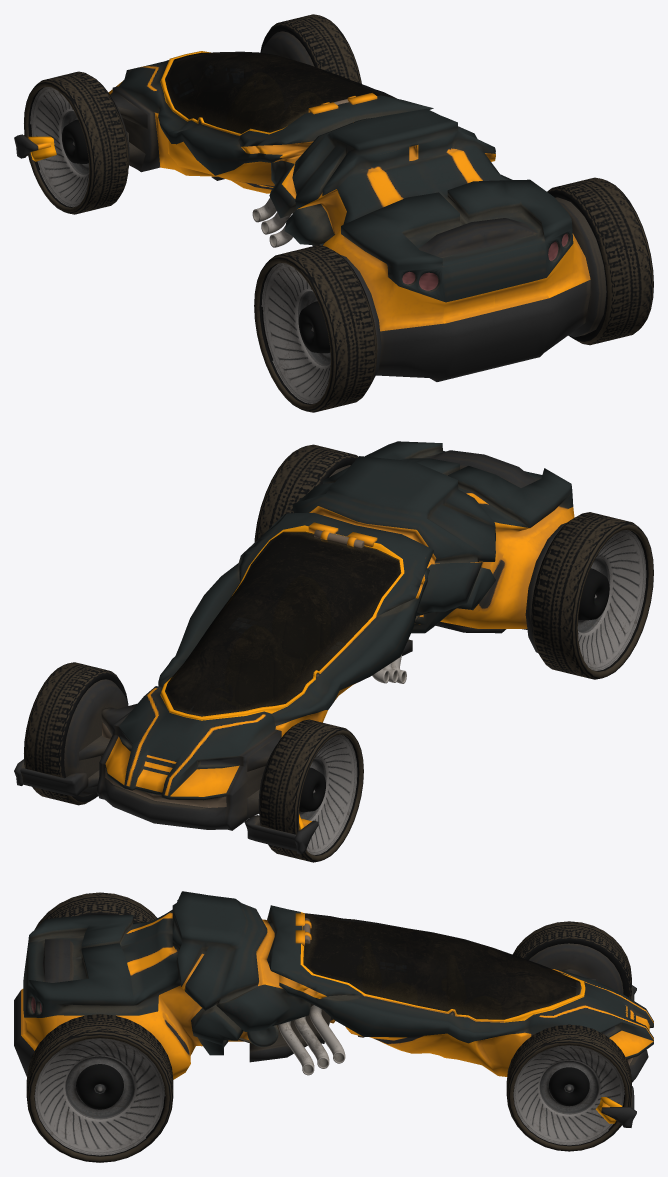
3 renders of one model, top to bottom at view 1: azimuth 30°, elevation 25°; view 2: azimuth 150°, elevation 25°; view 3: azimuth 270°, elevation 25°, orthographic. The views are drawn at different scales.
Visible parts, largest first — view 1: Object_4, Object_6, Object_7, Object_5, Object_3; view 2: Object_4, Object_5, Object_6, Object_7; view 3: Object_4, Object_6, Object_5, Object_7, Object_3.
Part boxes in pixels (bbox=[...]): Object_4: bbox=[14, 31, 606, 383]; Object_6: bbox=[254, 177, 653, 412]; Object_7: bbox=[24, 14, 361, 214]; Object_5: bbox=[165, 51, 396, 133]; Object_3: bbox=[252, 197, 292, 247]; Object_4: bbox=[14, 441, 574, 854]; Object_5: bbox=[165, 531, 401, 716]; Object_6: bbox=[254, 444, 653, 679]; Object_7: bbox=[24, 662, 363, 862]; Object_4: bbox=[14, 891, 653, 1127]; Object_6: bbox=[26, 892, 173, 1162]; Object_5: bbox=[303, 913, 580, 1019]; Object_7: bbox=[506, 921, 631, 1151]; Object_3: bbox=[238, 1005, 345, 1075].
Size of the model in its own units: 3.64 by 2.21 by 6.96.
Materials: 7 (5 with a texture image).
